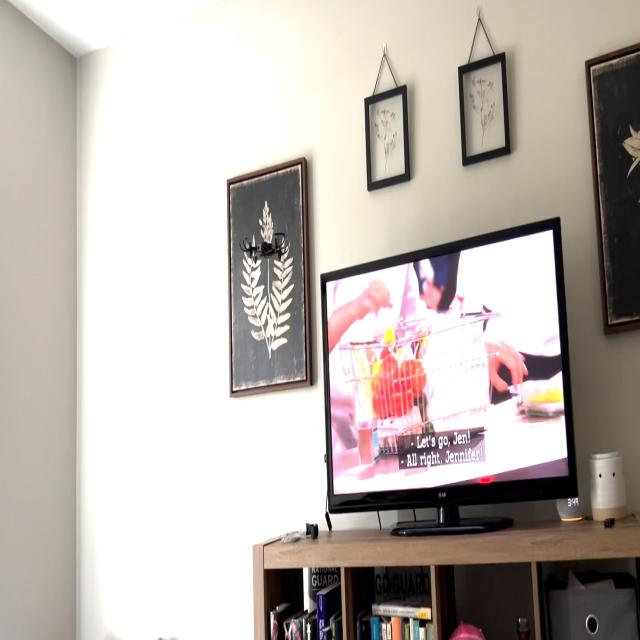drone: (228, 220, 304, 272)
